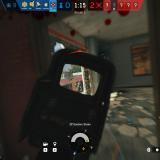Character: (75, 80, 84, 92)
